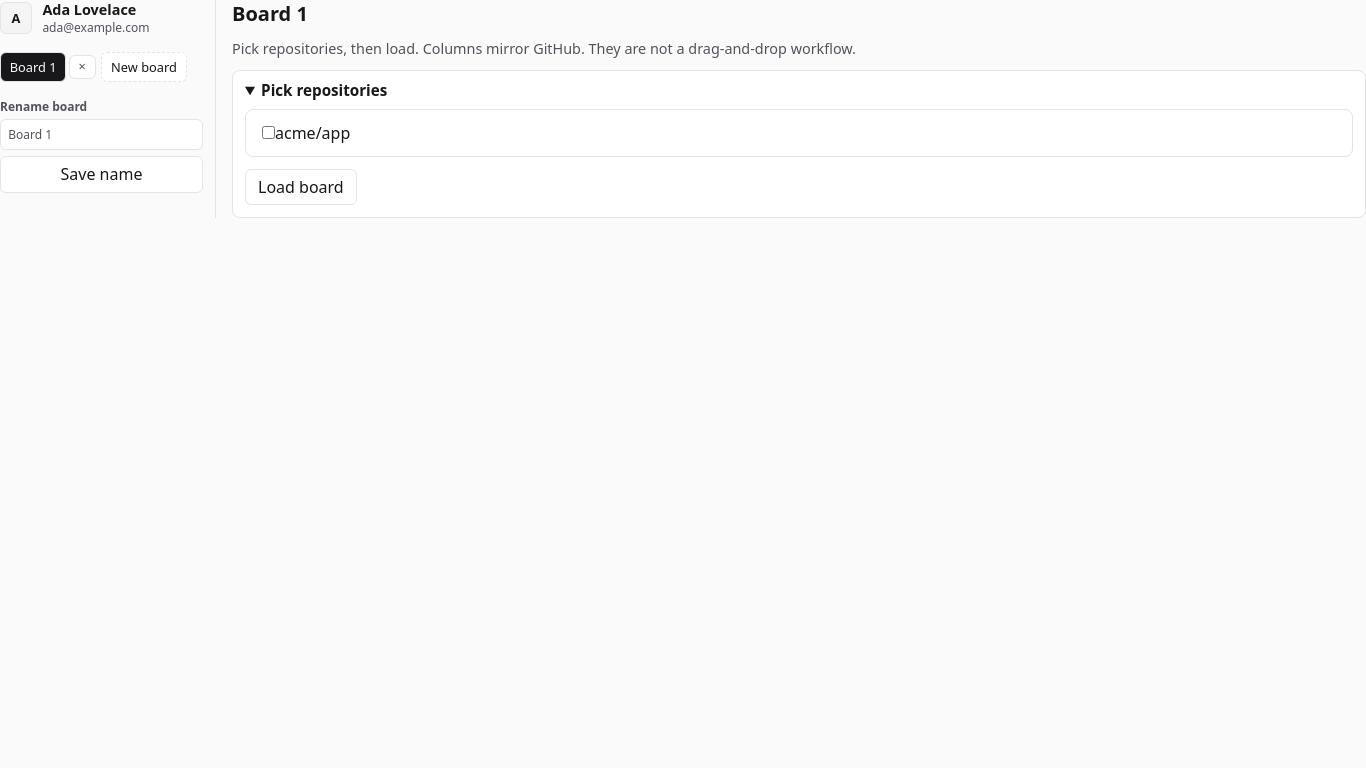
Test case: deconstructs two selected tickets under a FeatureMania parent
Expected: the text "acme/app" is shown, x1=262 y1=122 x2=350 y2=144
Click the checkbox labelled "acme/app" at [268, 132], box x1=262 y1=126 x2=275 y2=139
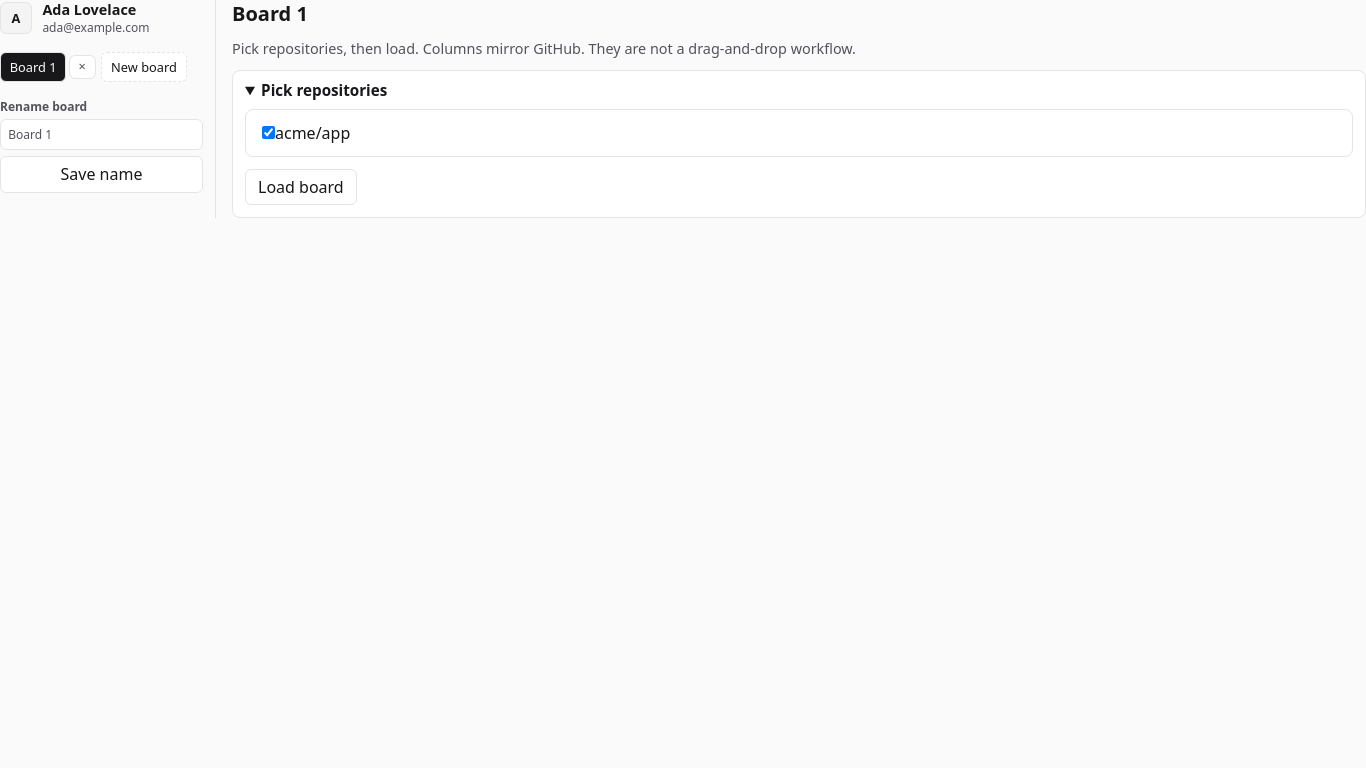
Click the button "Load board" at [301, 187], box x1=245 y1=169 x2=357 y2=205
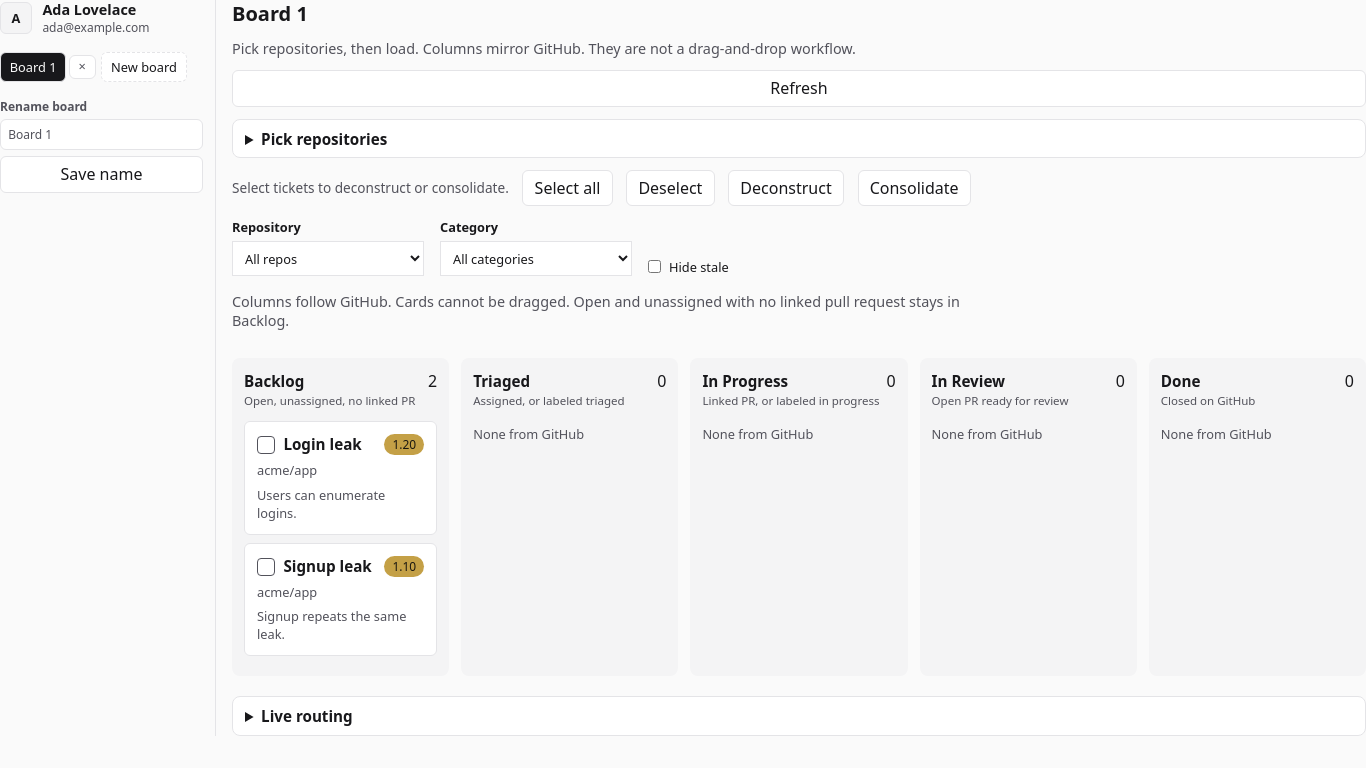
Result: the heading "Login leak" is shown at x1=283 y1=434 x2=362 y2=454
Result: the button "Deconstruct" is disabled at x1=728 y1=170 x2=844 y2=206
Click the checkbox named "Select acme/app#1" at [266, 445], box x1=257 y1=436 x2=275 y2=454
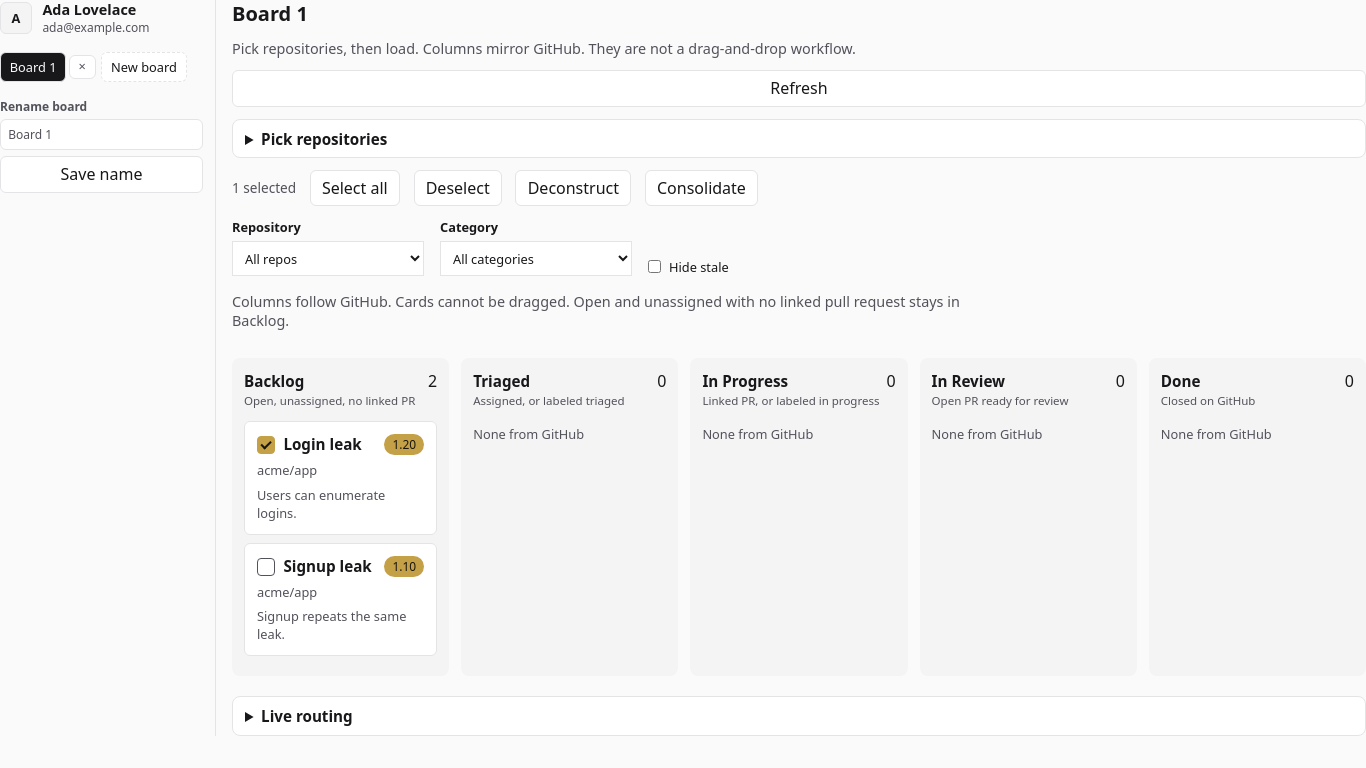
Result: the button "Deconstruct" is disabled at x1=516 y1=170 x2=631 y2=206
Click the checkbox named "Select acme/app#2" at [266, 567], box x1=257 y1=558 x2=275 y2=576
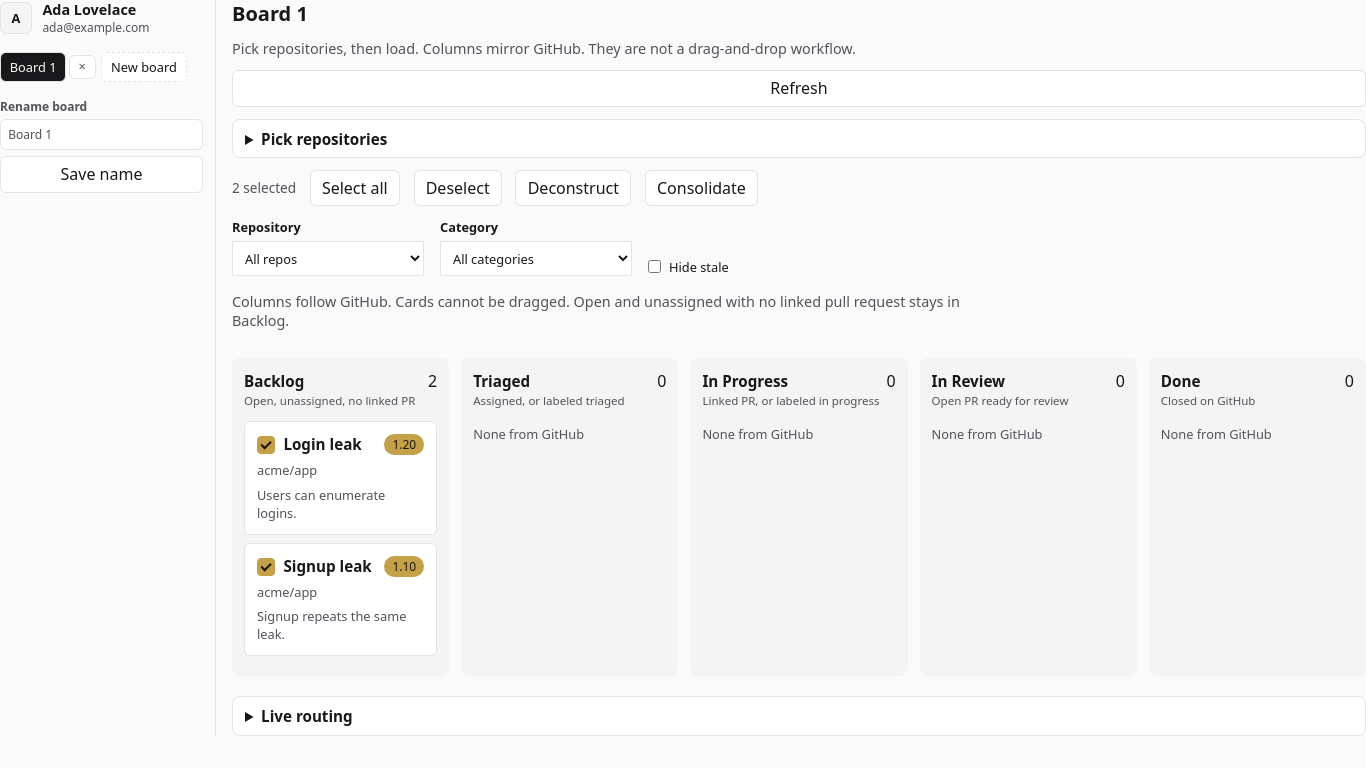
Click the button "Deconstruct" at [573, 188], box x1=516 y1=170 x2=631 y2=206
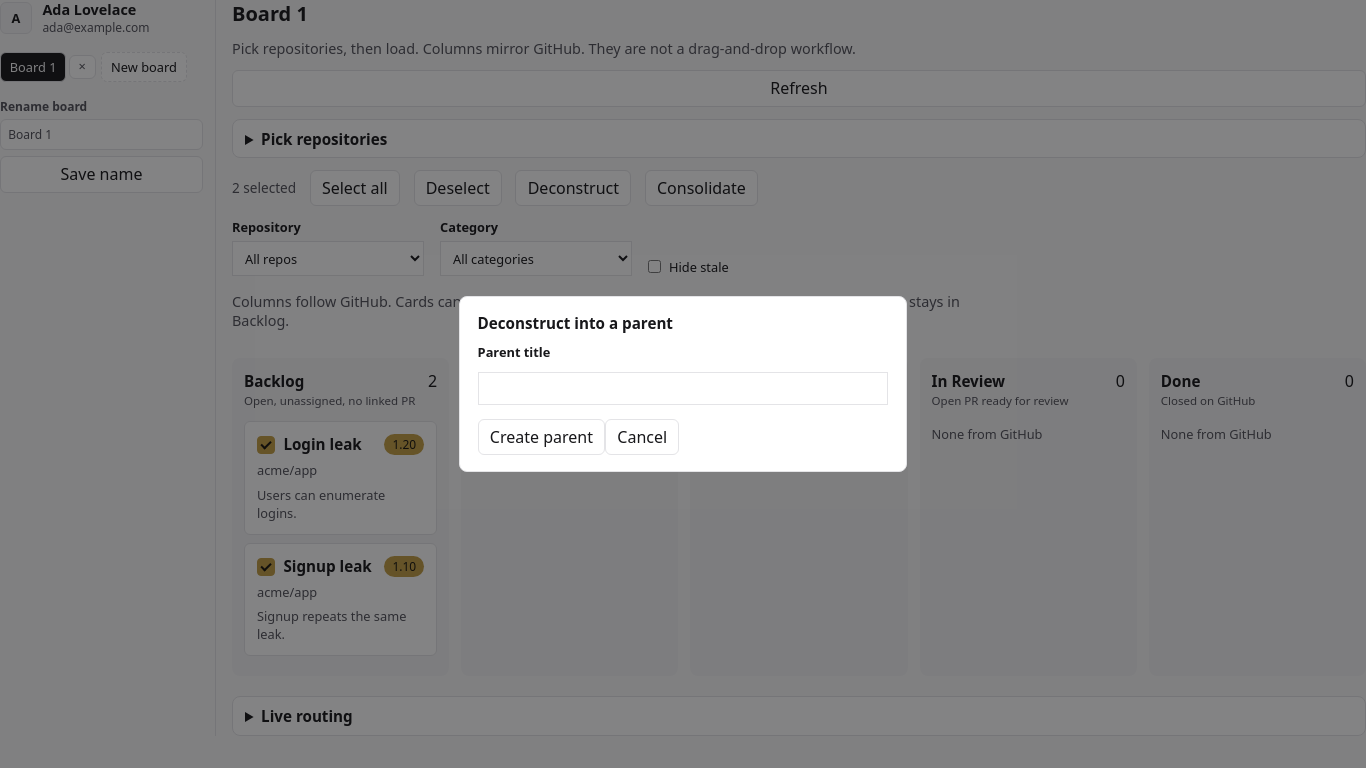
Result: the button "Create parent" is disabled at x1=478 y1=419 x2=605 y2=455
Type "Auth cleanup" into the field labelled "Parent title" at [683, 389], box x1=478 y1=372 x2=888 y2=405
Click the button "Create parent" at [541, 437], box x1=478 y1=419 x2=605 y2=455
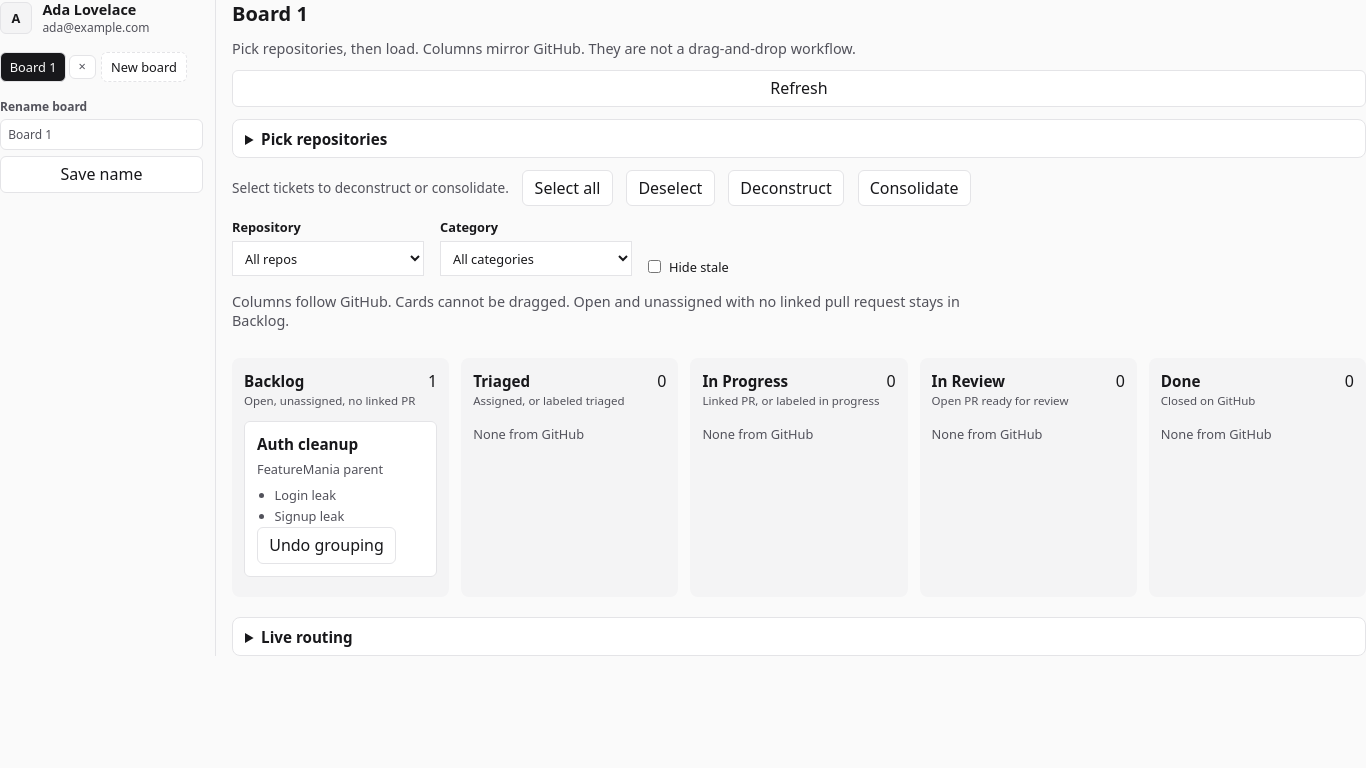
Result: the list item "Login leak" is shown at x1=275 y1=486 x2=336 y2=504
Result: the heading "Auth cleanup" is shown at x1=257 y1=434 x2=358 y2=454
Result: the text "FeatureMania parent" is shown at x1=257 y1=460 x2=383 y2=478
